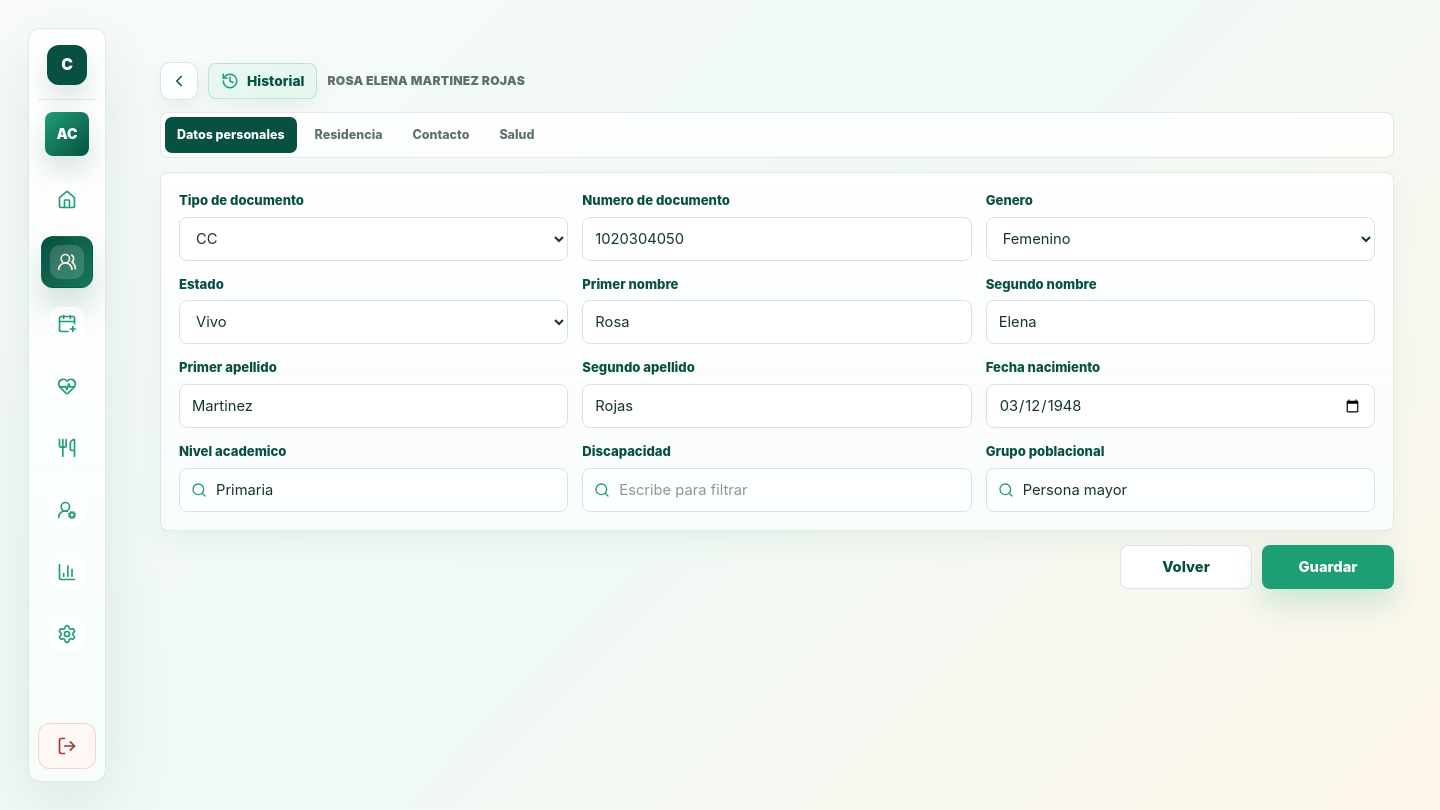
Test: App adultos mayores flow › allows clearing an existing EPS to start a new search
Expected: the field labelled "Primer nombre" is shown, [582,300,972,344]
Click the tab "Salud" at point(517, 135), box [487,117,546,153]
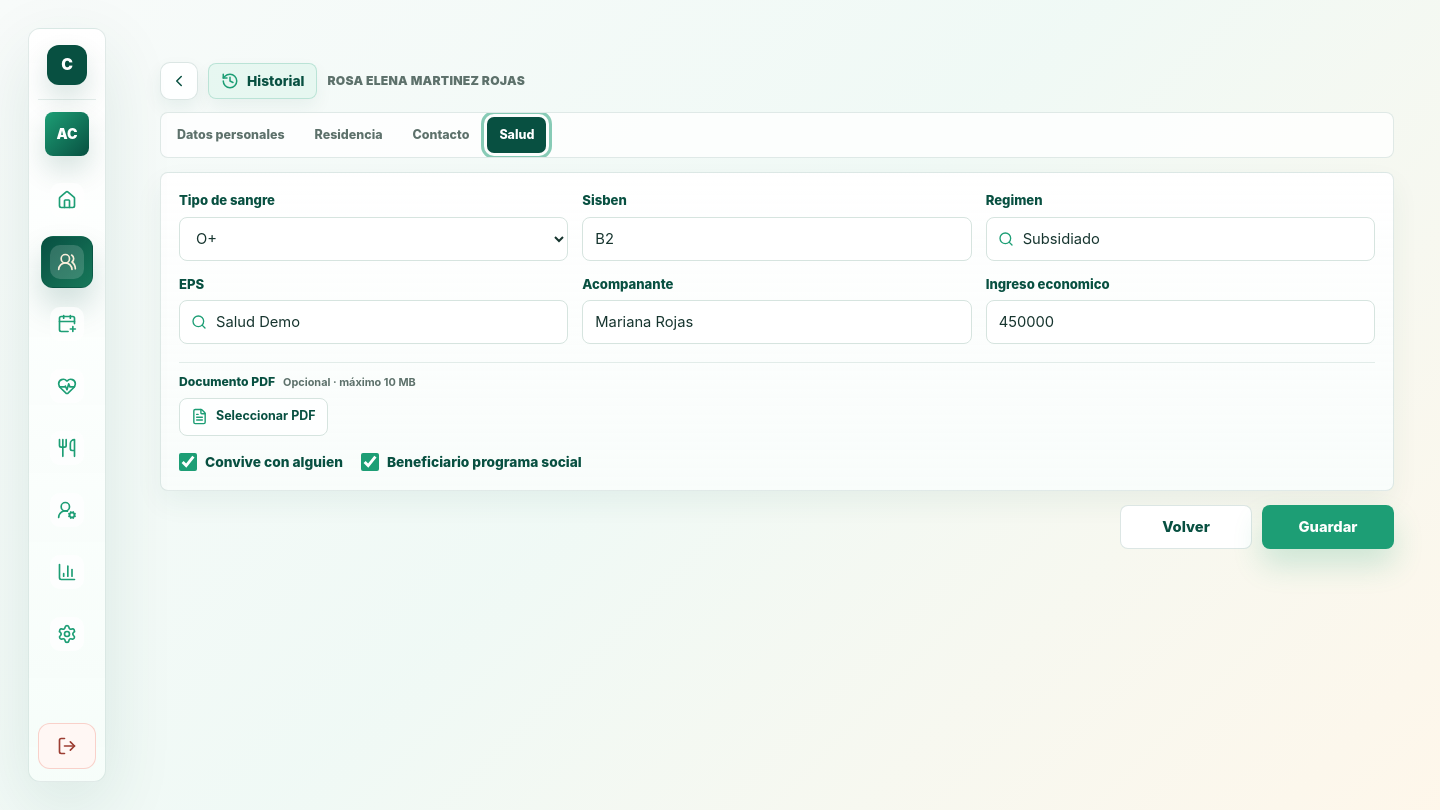
Replace the text in the dropdown labelled "EPS" with "Sal" at point(374, 322), box [179,300,568,344]
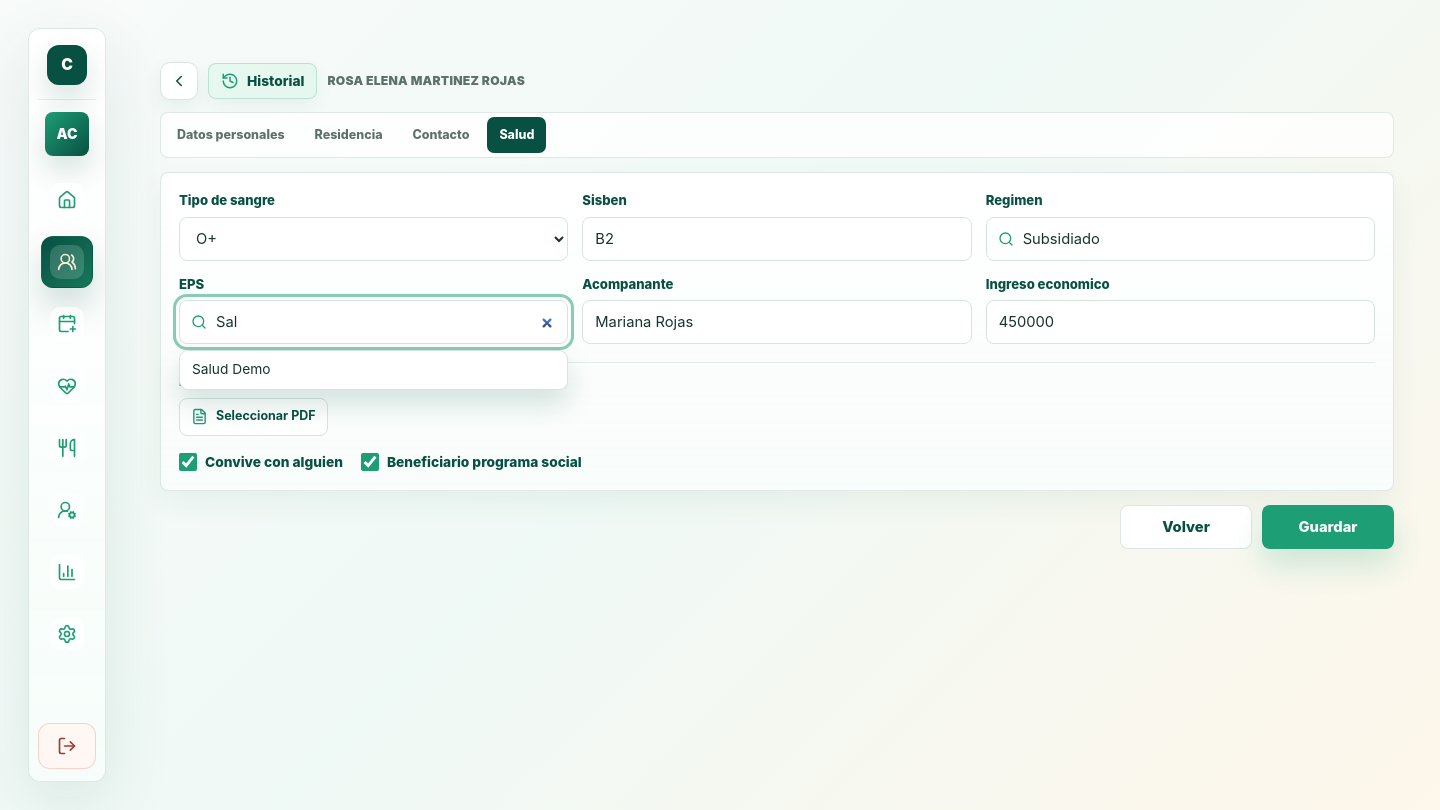
Result: the option "Salud Demo" is shown at [192,361,270,377]
